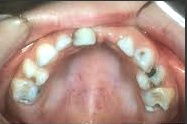Caries: (143, 67, 157, 80), (135, 49, 146, 58)
